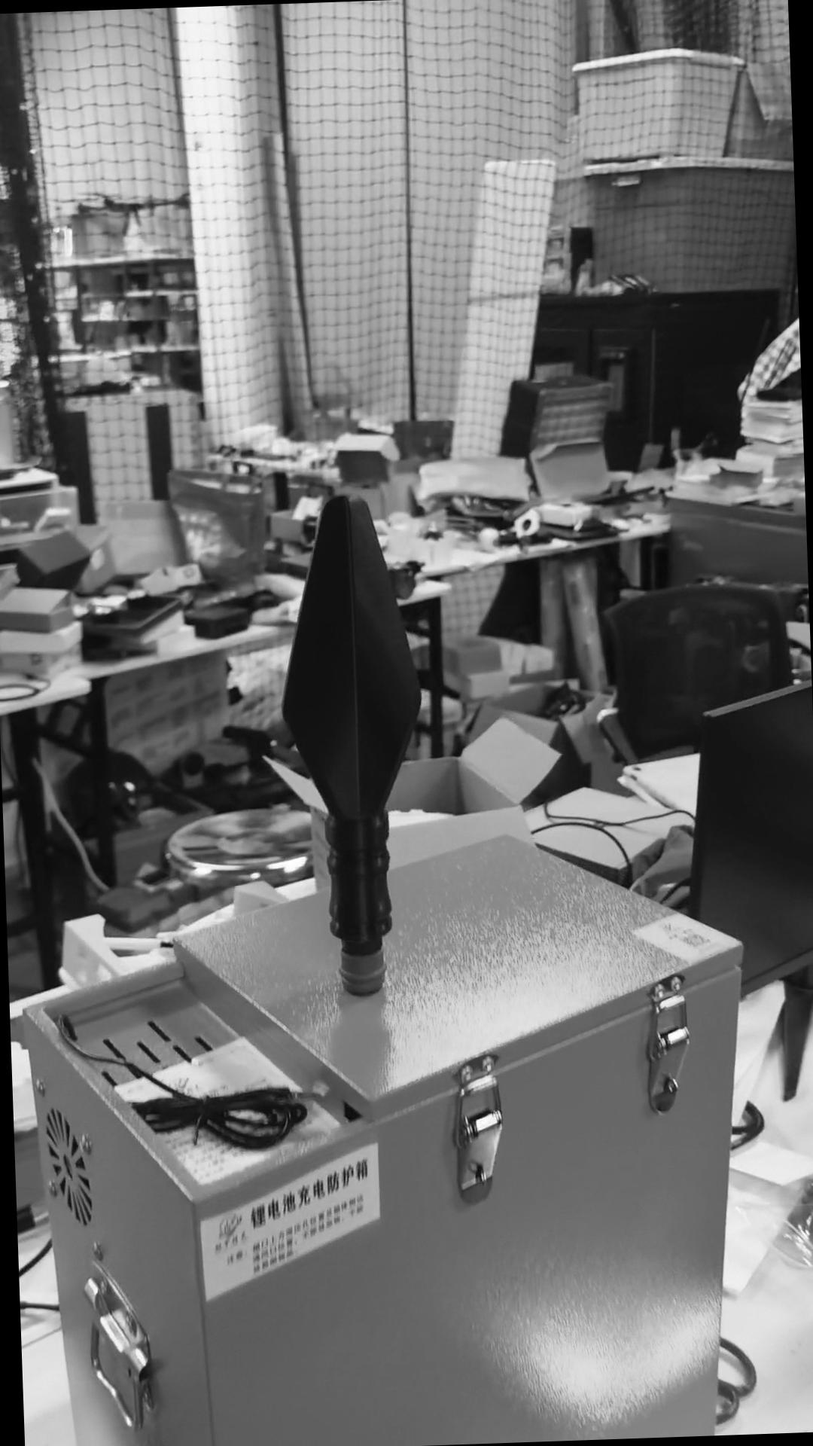base: (338, 944, 387, 997)
